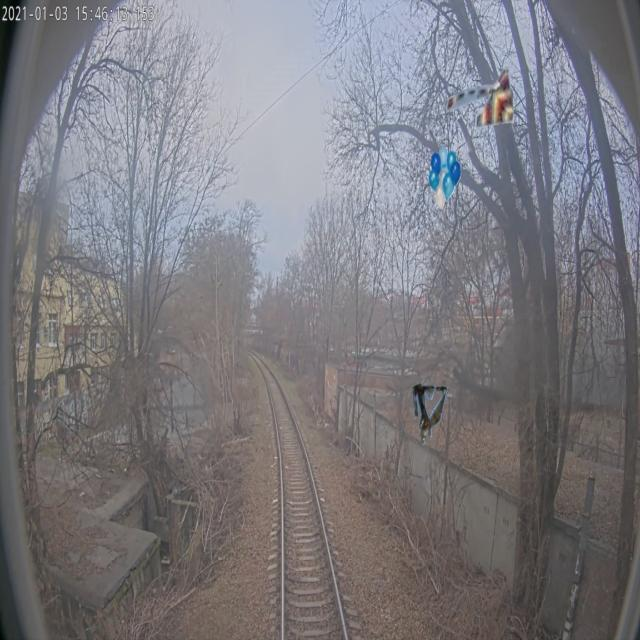balloon: (429, 147, 461, 210)
floating object: (446, 64, 518, 128), (411, 382, 448, 446)
